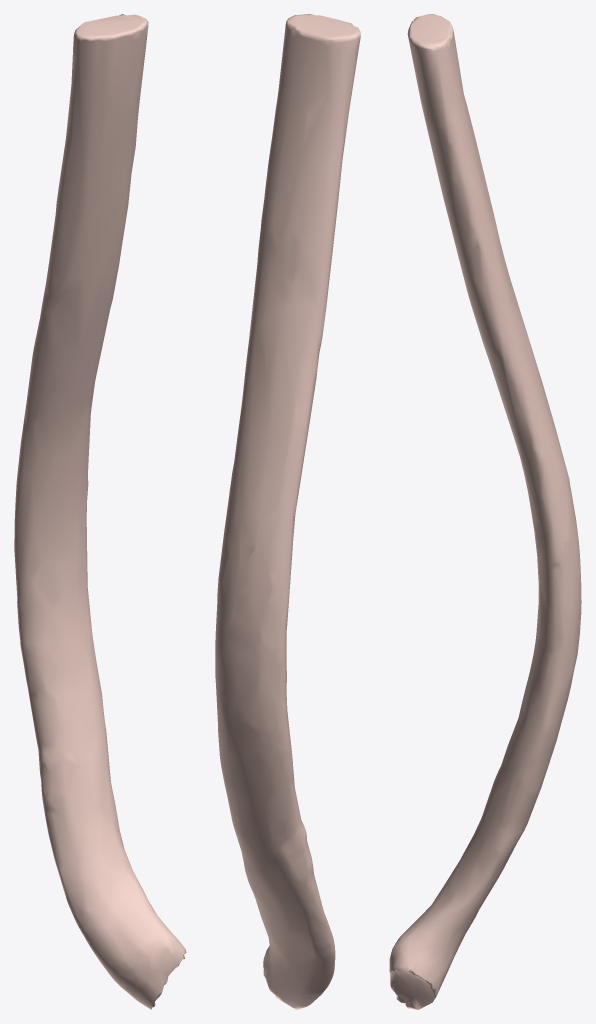
Rendered from esophagus.glb.
3 renders of one model, left to right at view 1: azimuth 30°, elevation 25°; view 2: azimuth 150°, elevation 25°; view 3: azimuth 270°, elevation 25°, orthographic. The views are drawn at different scales.
Visible parts, largest first — view 1: esophagus; view 2: esophagus; view 3: esophagus.
Boxes of the visible parts, x1,y1,x2,y2 form: esophagus: [14, 14, 186, 1009]; esophagus: [215, 14, 360, 1009]; esophagus: [389, 14, 581, 1009].
Size of the model in its own units: 0.0259 by 0.2494 by 0.045.
